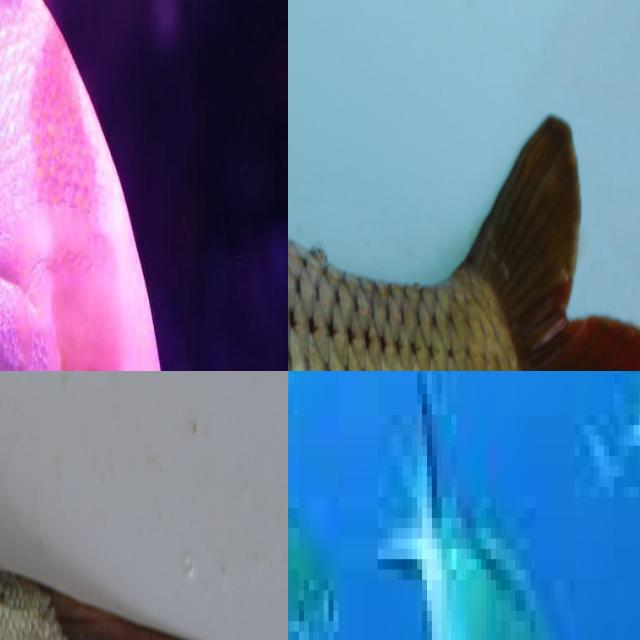fish: (288, 28, 640, 371), (0, 0, 288, 371), (288, 371, 640, 640), (0, 371, 288, 640)
